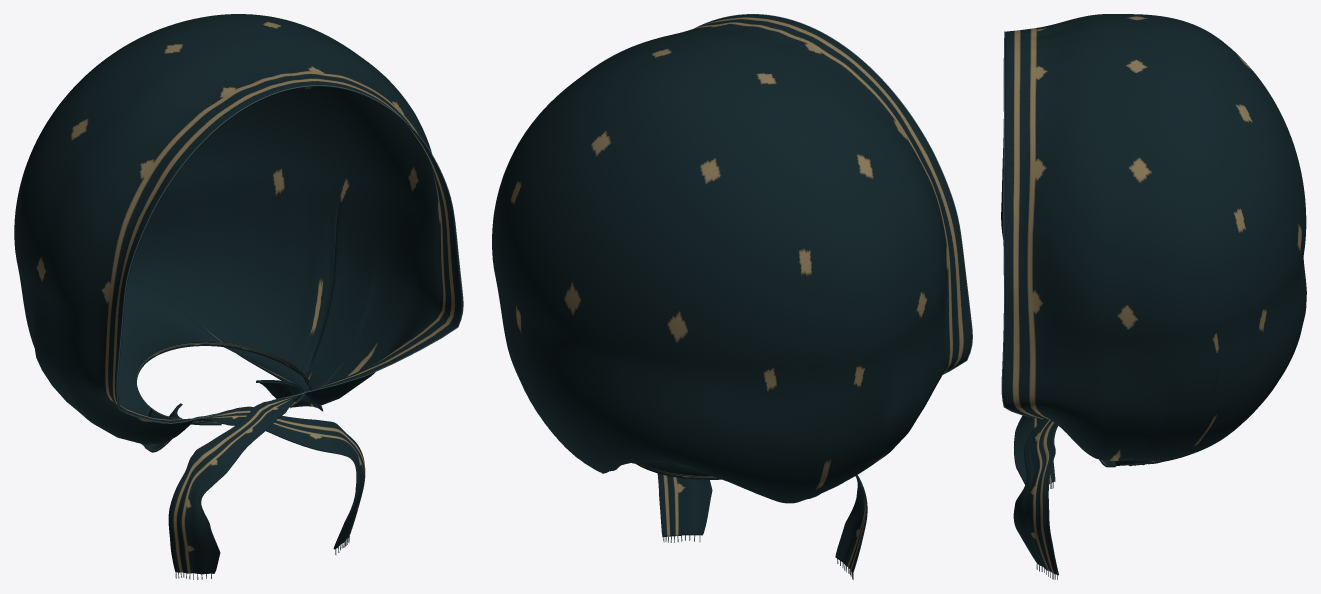
Rendered from Feminine-ponytail-sweatshirt-pashmina250-headgear.glb.
3 views of the same model, side by side, from view 1: azimuth 30°, elevation 25°; view 2: azimuth 150°, elevation 25°; view 3: azimuth 270°, elevation 25° (orthographic). The views are drawn at different scales.
Parts seen in each view (by area): view 1: 226 headgear / Headwear / continuous woven pashmina239, 226 headgear / Headwear / face edge239; view 2: 226 headgear / Headwear / continuous woven pashmina239, 226 headgear / Headwear / face edge239; view 3: 226 headgear / Headwear / continuous woven pashmina239, 226 headgear / Headwear / face edge239.
Part boxes in pixels (bbox=[...]): 226 headgear / Headwear / continuous woven pashmina239: bbox=[14, 14, 462, 574]; 226 headgear / Headwear / face edge239: bbox=[116, 85, 463, 423]; 226 headgear / Headwear / continuous woven pashmina239: bbox=[492, 14, 971, 573]; 226 headgear / Headwear / face edge239: bbox=[694, 14, 972, 374]; 226 headgear / Headwear / continuous woven pashmina239: bbox=[1001, 14, 1306, 575]; 226 headgear / Headwear / face edge239: bbox=[1001, 31, 1042, 418].
Size of the model in its own units: 1.07 by 1.38 by 0.7569.
Materials: 3 (1 with a texture image).
